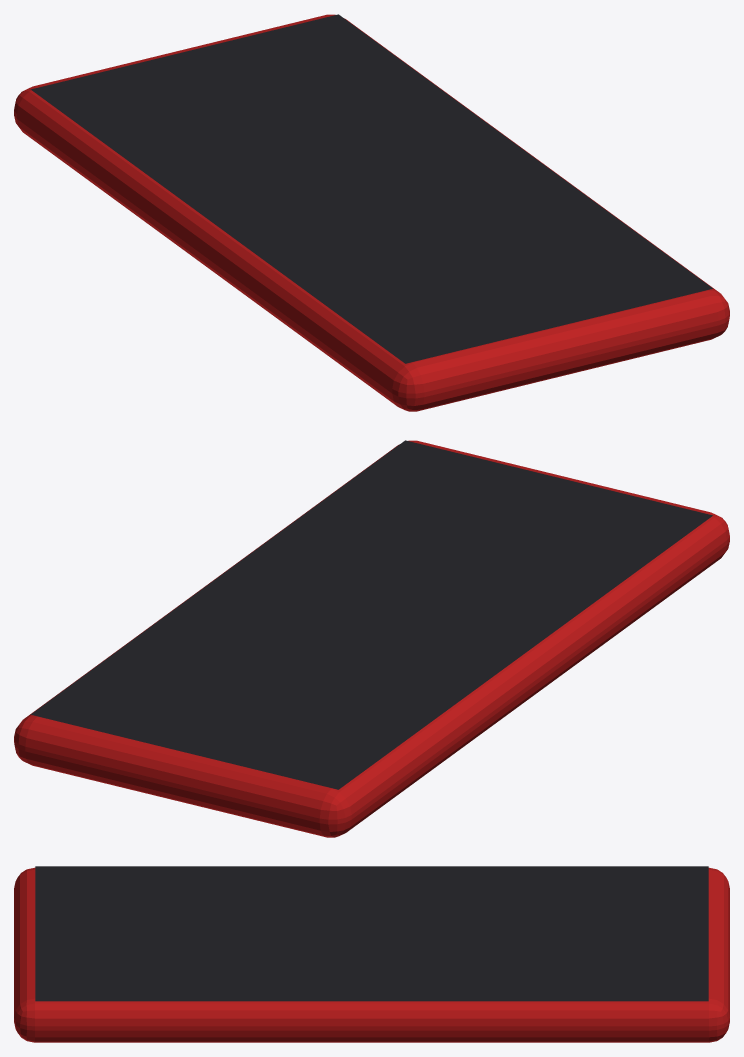
File: Phone_558.glb
3 views of the same model, one above another, from view 1: azimuth 30°, elevation 25°; view 2: azimuth 150°, elevation 25°; view 3: azimuth 270°, elevation 25° (orthographic). The views are drawn at different scales.
Parts seen in each view (by area): view 1: Phone_Screen, Phone_Body; view 2: Phone_Screen, Phone_Body; view 3: Phone_Screen, Phone_Body.
Part boxes in pixels (x1,y1,x2,y2): Phone_Screen: (31,14,712,363); Phone_Body: (14,14,729,411); Phone_Screen: (31,440,712,789); Phone_Body: (14,440,729,837); Phone_Screen: (35,866,708,1001); Phone_Body: (14,867,729,1042).
Bounding box in the file's own units: 0.0716 × 0.0097 × 0.1477.
